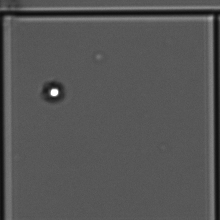Living Cell: (41, 81, 65, 103)
